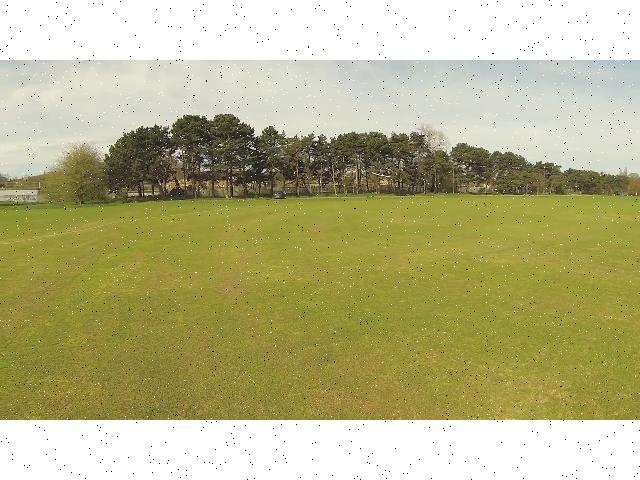Anti-Drone: (362, 165, 398, 185)
